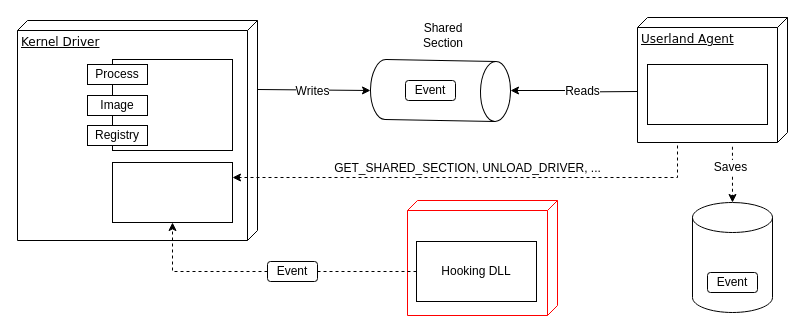
Some shapes in this 805 by 333 pixel diagram are drawn without their labels. Each missing label, with the box of its shape:
Callbacks: (112, 58, 232, 150)
Database: (692, 202, 772, 312)
Malicious Process: (406, 200, 558, 316)
Scanner: (646, 64, 768, 124)
«interface» IOCTL: (112, 162, 232, 222)
